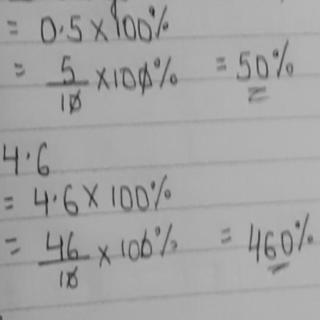.: (24, 148, 32, 162), (58, 24, 66, 34), (51, 193, 58, 202)
0: (39, 16, 57, 45), (134, 184, 150, 213), (254, 52, 270, 79), (119, 184, 133, 212), (128, 239, 141, 263)
1: (109, 183, 118, 210), (57, 267, 64, 288), (118, 238, 126, 256)
4: (1, 141, 21, 178), (31, 185, 52, 217), (44, 230, 65, 259)
5: (59, 53, 78, 84), (236, 50, 253, 81), (66, 14, 84, 43)
6: (61, 183, 80, 216), (36, 141, 53, 177), (65, 230, 80, 261)
